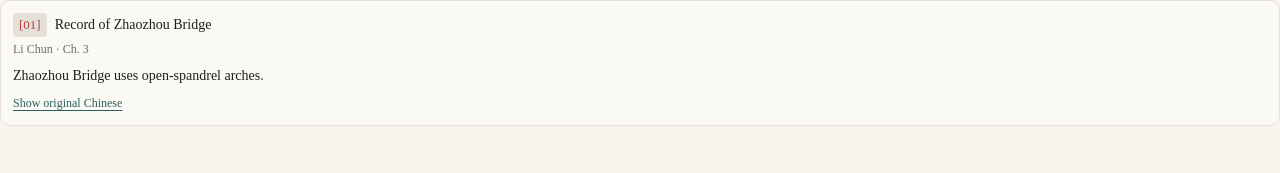
Scenario: EvidenceCard › en-US locale › renders the English summary as primary content with a Show original toggle
Expected: the text "Zhaozhou Bridge uses open-spandrel arches." is shown, x1=13 y1=68 x2=264 y2=82
Expected: the text "敞肩拱也" is not shown
Click the button "Show original Chinese". click: coordinates (68, 103)
box: x1=13 y1=95 x2=122 y2=111
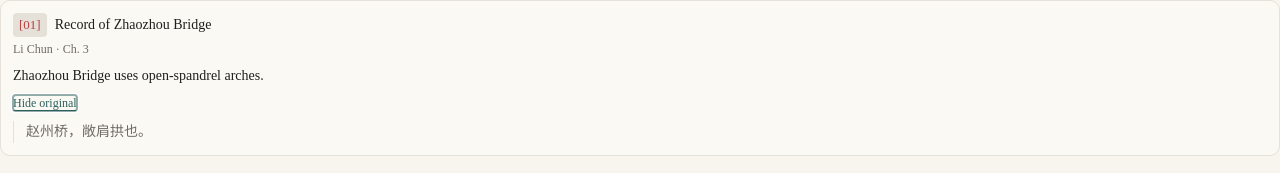
Now the text "赵州桥，敞肩拱也。" is shown, box x1=13 y1=121 x2=1267 y2=143
Now the button "Hide original" is expanded, box x1=13 y1=95 x2=77 y2=111
